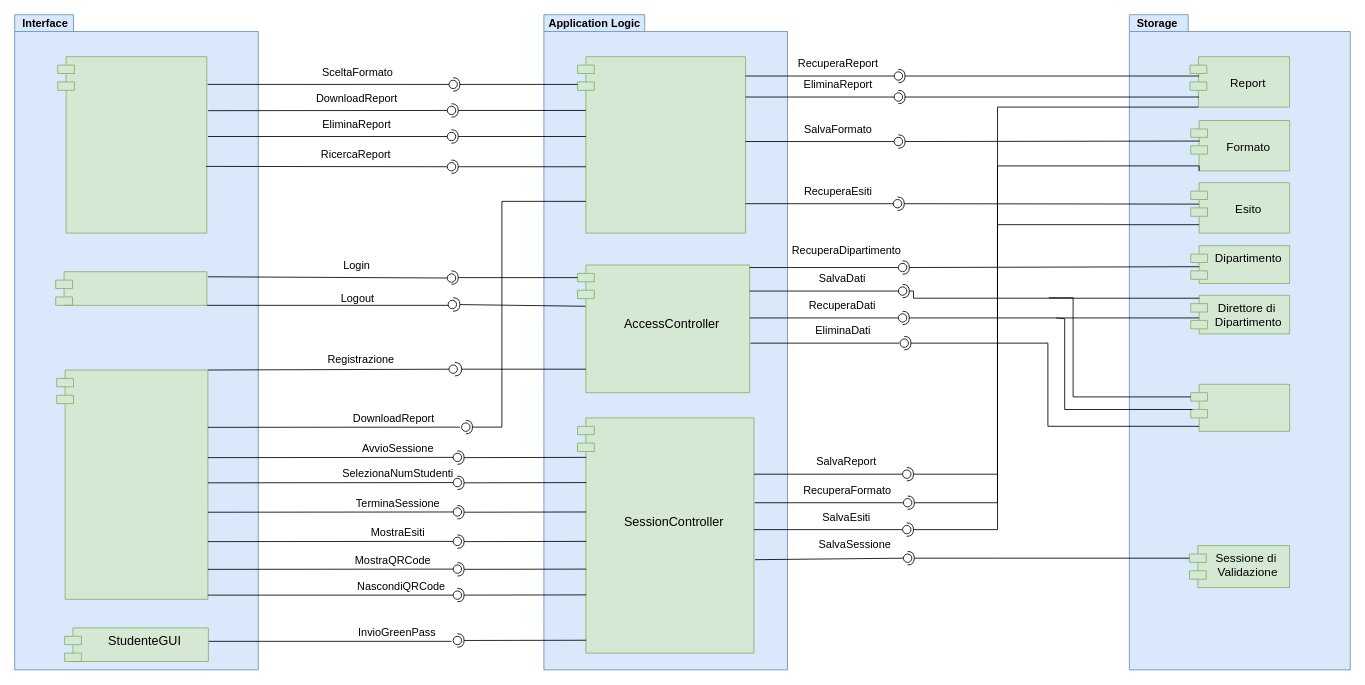
Image size: 1365x685. Some labels were removed from this diagram. The centre of each missing label's shape, as x and y in pixels:
"AutenticazioneGUI" belongs at point (131, 288).
"DirettoreDi Dipartimento GUI" belongs at point (132, 144).
"Docente" belongs at point (1240, 407).
"DocenteGUI" belongs at point (132, 484).
"ReportController" belongs at point (661, 144).
